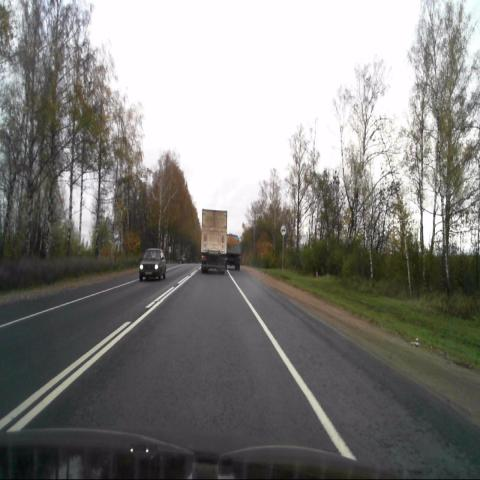3_21: (280, 225, 286, 235)
